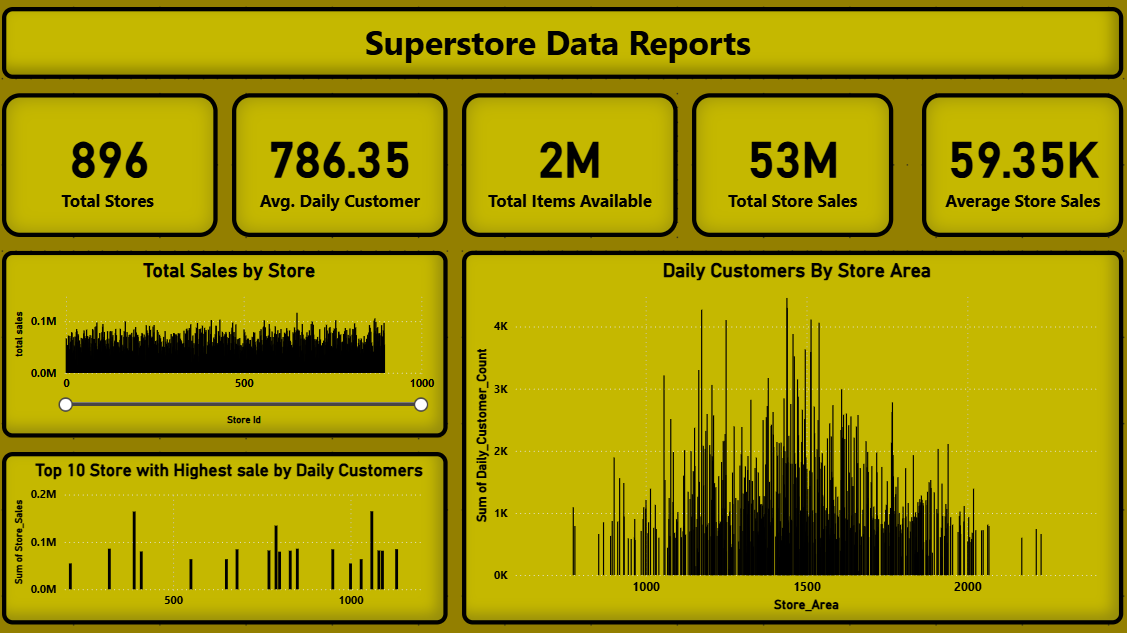

Layout of this report page (visuals, bound fields, positions):
{"tool":"powerbi","page":{"name":"Page 1","canvas":[1280,720],"ordinal":0},"visuals":[{"type":"card","fields":{"Values":["Avg(Stores.Store_Sales)"]},"box":[1040,112,224,160],"z":0},{"type":"card","fields":{"Values":["Sum(Stores.Items_Available)"]},"box":[528,112,240,160],"z":1000},{"type":"card","fields":{"Values":["Avg(Stores.Daily_Customer_Count)"]},"box":[272,112,240,160],"z":2000},{"type":"card","fields":{"Values":["CountNonNull(Stores.Store ID )"]},"box":[16,112,240,160],"z":3000},{"type":"card","fields":{"Values":["Sum(Stores.Store_Sales)"]},"box":[784,112,224,160],"z":4000},{"type":"clusteredColumnChart","title":"Daily Customers By Store Area","fields":{"Y":["Sum(Stores.Daily_Customer_Count)"],"Category":["Stores.Store_Area"]},"box":[528,288,736,416],"z":5000},{"type":"clusteredColumnChart","title":"Top 10 Store with Highest sale  by  Daily Customers ","fields":{"Category":["Stores.Daily_Customer_Count"],"Y":["Sum(Stores.Store_Sales)"]},"box":[16,512,496,192],"z":6000},{"type":"clusteredColumnChart","title":"Total Sales by Store","fields":{"Category":["Stores.Store ID "],"Y":["Sum(Stores.Store_Sales)"]},"box":[16,288,496,208],"z":7000},{"type":"textbox","box":[16,16,1248,80],"z":7001}]}

Visuals, with their boxes in screenshot pixels (x1, y1, x2, y2), scaled from the page's 1280x720 canvas onto the 1127x633 screenshot:
card - Avg(Stores.Store_Sales): [left=916, top=98, right=1113, bottom=239]
card - Sum(Stores.Items_Available): [left=465, top=98, right=676, bottom=239]
card - Avg(Stores.Daily_Customer_Count): [left=239, top=98, right=451, bottom=239]
card - CountNonNull(Stores.Store ID ): [left=14, top=98, right=225, bottom=239]
card - Sum(Stores.Store_Sales): [left=690, top=98, right=888, bottom=239]
"Daily Customers By Store Area" clusteredColumnChart: [left=465, top=253, right=1113, bottom=619]
"Top 10 Store with Highest sale  by  Daily Customers " clusteredColumnChart: [left=14, top=450, right=451, bottom=619]
"Total Sales by Store" clusteredColumnChart: [left=14, top=253, right=451, bottom=436]
textbox: [left=14, top=14, right=1113, bottom=84]
